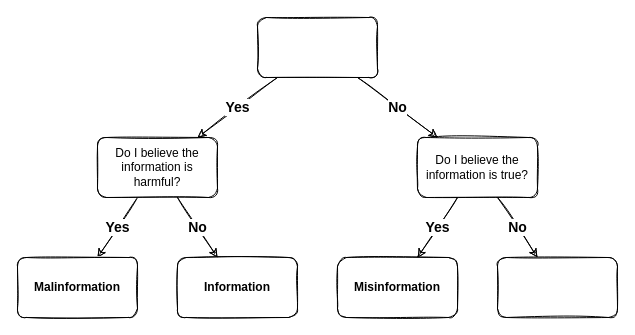
This 635x335 diagram has some shape labels left out. Here are the shapes that lost their labels. From the top down, the centre of each, then its label:
the point at 317,47: Is the information objectively true?
the point at 557,287: Disinformation
